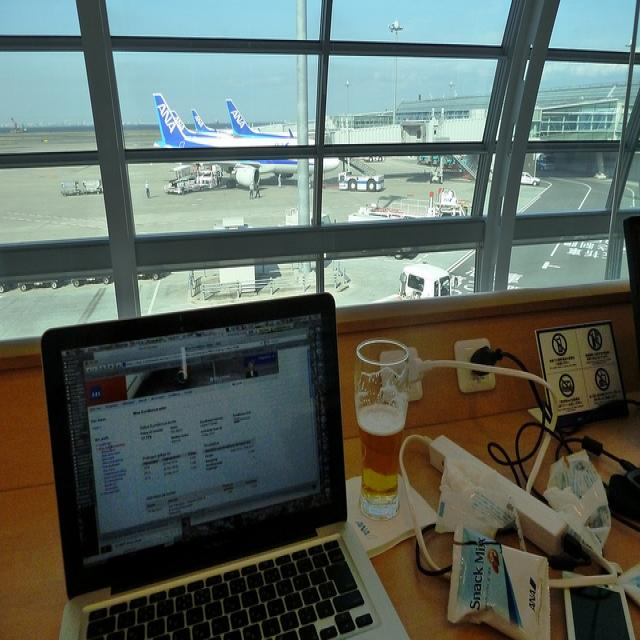Vehicle: (369, 261, 458, 303)
